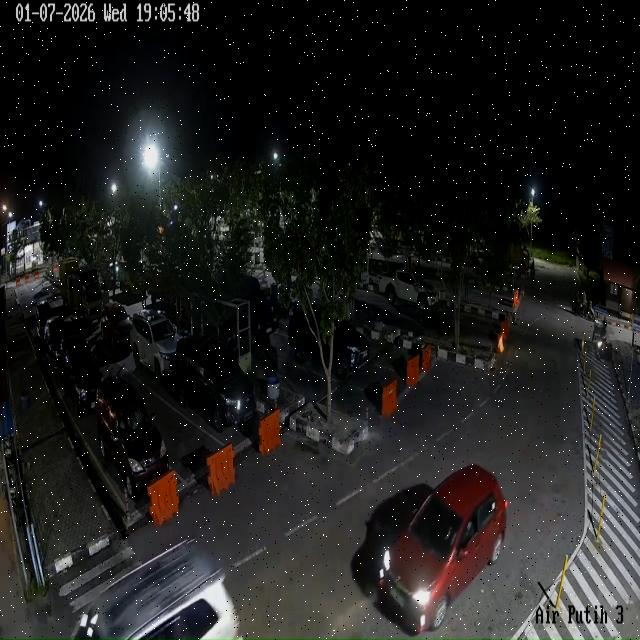Golongan IVA: (379, 464, 508, 633), (72, 538, 241, 640), (96, 376, 170, 498), (173, 336, 256, 432), (288, 306, 369, 379), (130, 309, 178, 384), (60, 336, 103, 416), (101, 302, 131, 347), (42, 315, 66, 369), (35, 300, 53, 338)
Golongan IVB: (378, 270, 439, 312)
Golongan VB: (59, 258, 108, 320)
